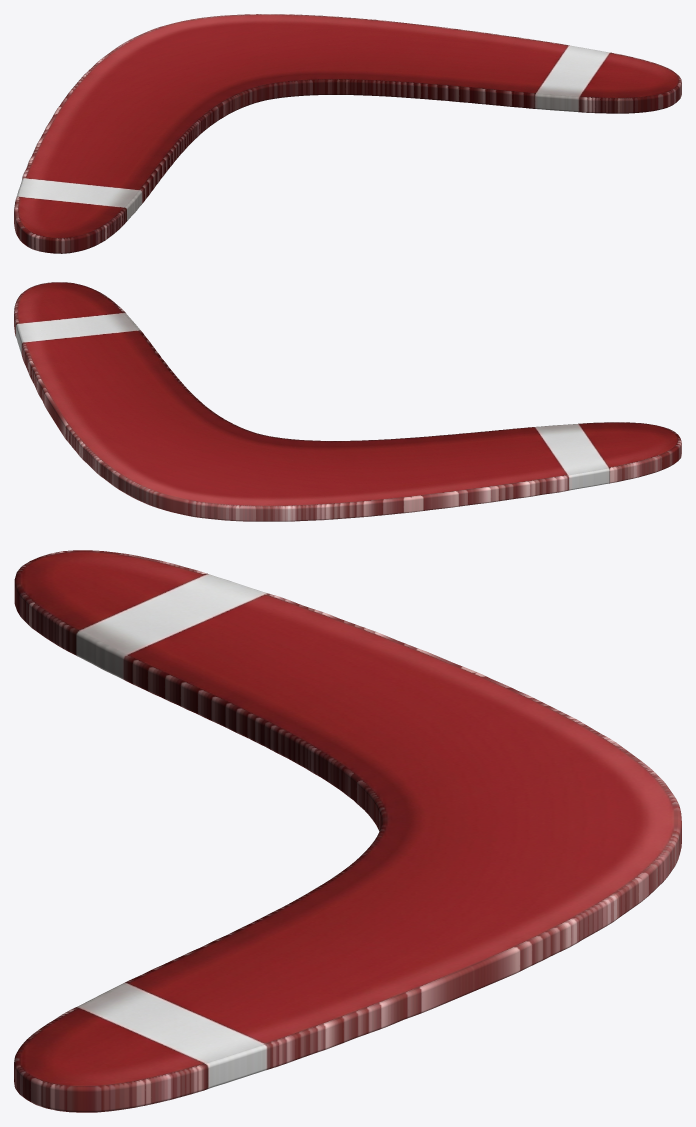
Rendered from Boomerang_1.fbx.
3 views of the same model, one above another, from view 1: azimuth 30°, elevation 25°; view 2: azimuth 150°, elevation 25°; view 3: azimuth 270°, elevation 25° (orthographic). The views are drawn at different scales.
Visible parts, largest first — view 1: Boomerang_1; view 2: Boomerang_1; view 3: Boomerang_1.
Part boxes in pixels (box(x1,y1,x2,y2)): Boomerang_1: box(14, 14, 681, 253); Boomerang_1: box(14, 282, 681, 521); Boomerang_1: box(14, 550, 681, 1112).
Size of the model in its own units: 201 by 4.4 by 105.
Materials: 1 (1 with a texture image).
